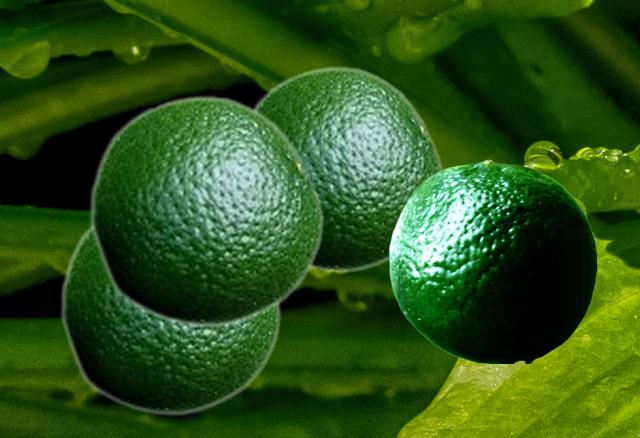calamansi: (88, 94, 324, 328), (389, 159, 596, 362), (59, 227, 281, 416), (252, 65, 444, 273)
